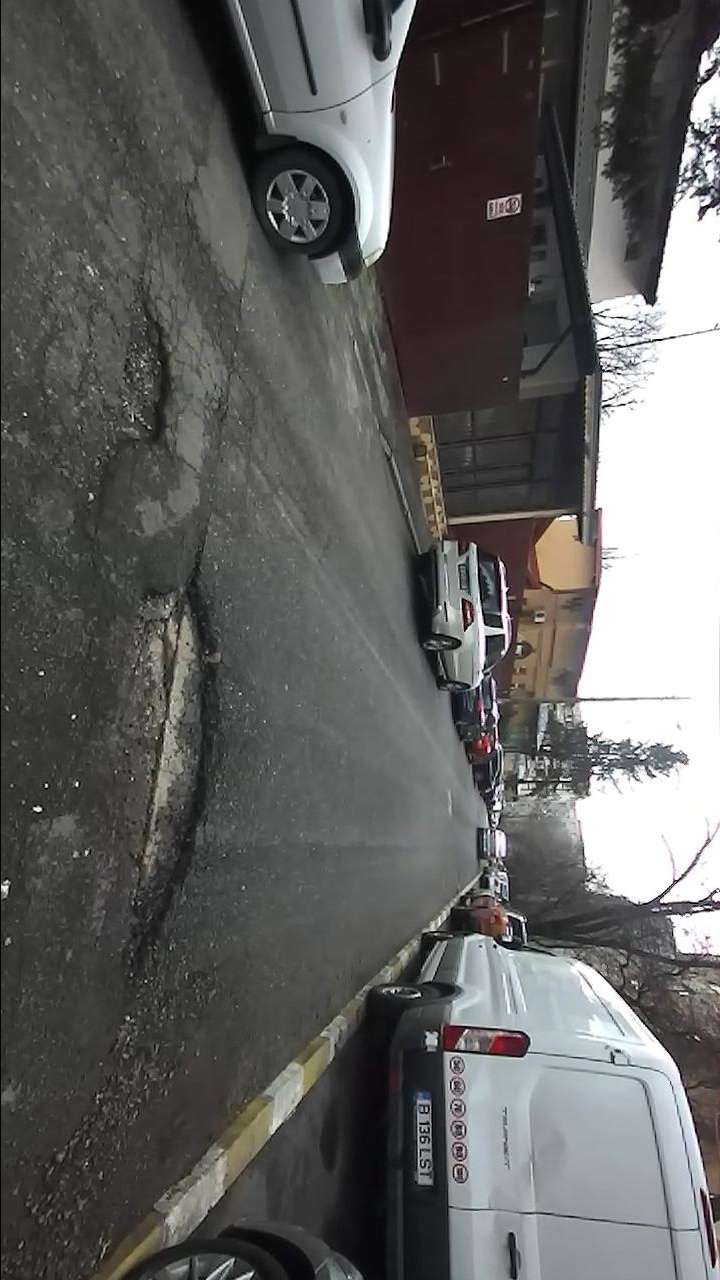pothole: (93, 553, 227, 996), (91, 287, 180, 497)
